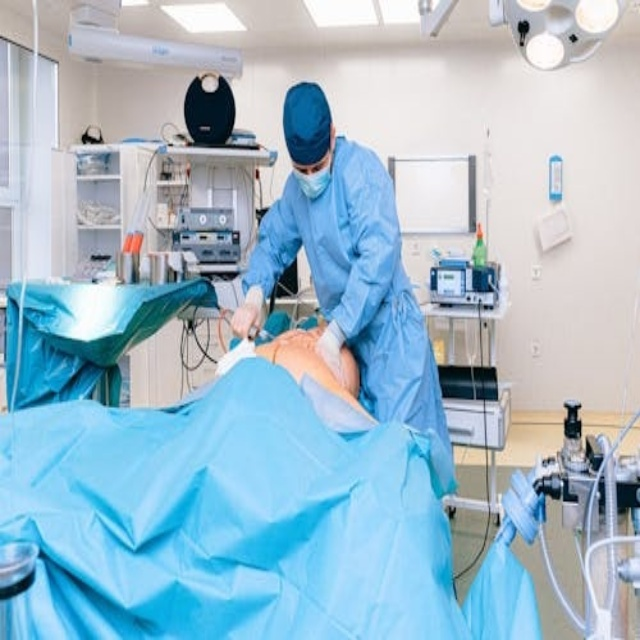Guantes: (315, 319, 347, 383), (231, 285, 263, 341)
Mascara: (288, 163, 335, 204)
Sin_gafas: (292, 154, 332, 179)
